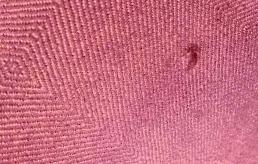knot: (183, 41, 203, 72)
